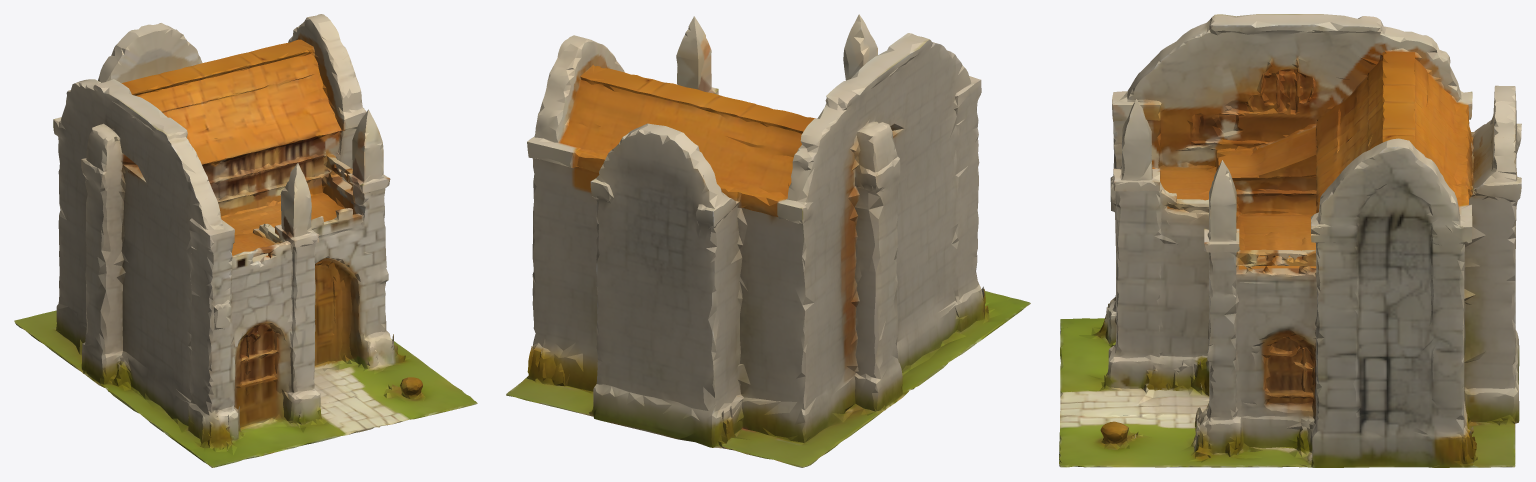
Rendered from library.glb.
3 views of the same model, side by side, from view 1: azimuth 30°, elevation 25°; view 2: azimuth 150°, elevation 25°; view 3: azimuth 270°, elevation 25° (orthographic). The views are drawn at different scales.
Visible parts, largest first — view 1: Library; view 2: Library; view 3: Library.
Part boxes in pixels (x1,y1,x2,y2): Library: (14,14,477,467); Library: (506,14,1030,467); Library: (1059,14,1521,467).
Bounding box in the file's own units: 1.44 × 1.44 × 1.89.
1 material, 1 textured.
